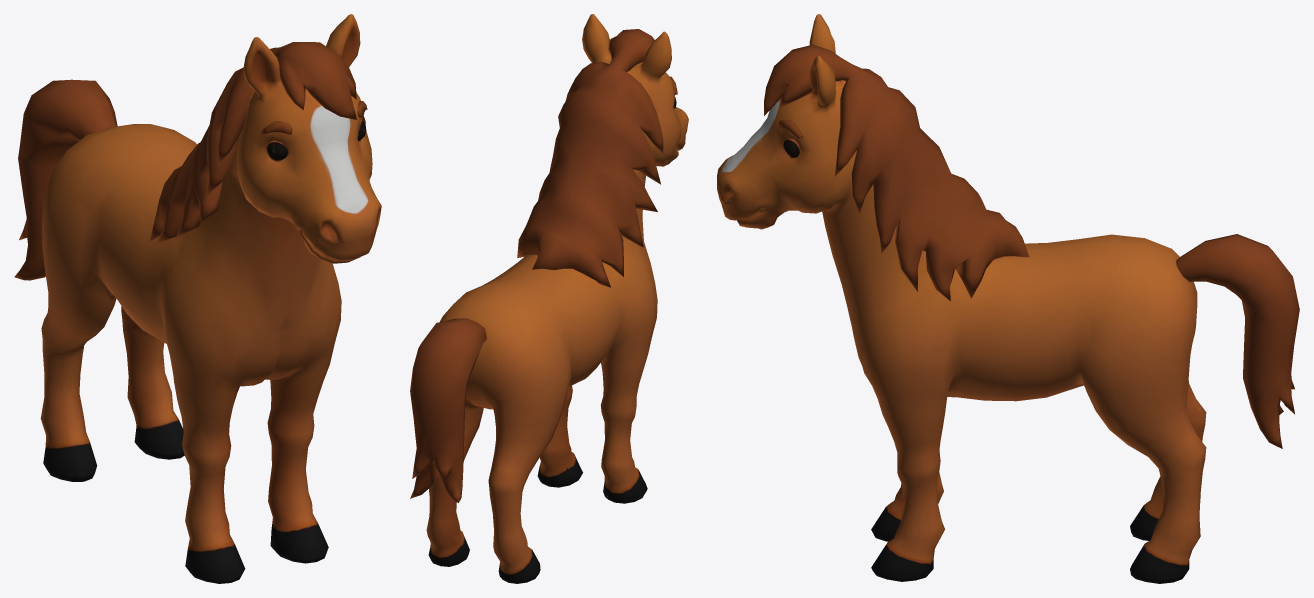
File: horse_showcase.glb
3 renders of one model, left to right at view 1: azimuth 30°, elevation 25°; view 2: azimuth 150°, elevation 25°; view 3: azimuth 270°, elevation 25°, orthographic. The views are drawn at different scales.
Parts seen in each view (by area): view 1: Chestnut Blaze Pony; view 2: Chestnut Blaze Pony; view 3: Chestnut Blaze Pony.
Part boxes in pixels (<box>): Chestnut Blaze Pony: <box>14,14,381,583</box>; Chestnut Blaze Pony: <box>410,14,688,583</box>; Chestnut Blaze Pony: <box>717,14,1299,583</box>.
Bounding box in the file's own units: 0.2871 × 0.9824 × 0.998.
1 material, 1 textured.
